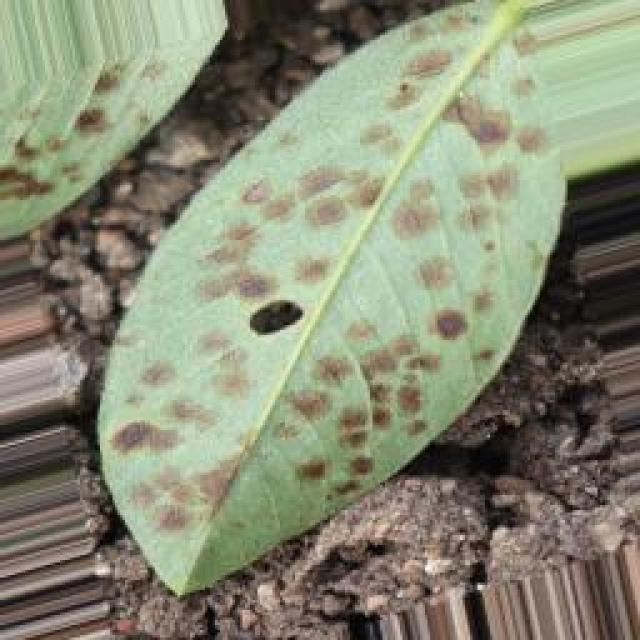Whitefly: (0, 0, 578, 555)
